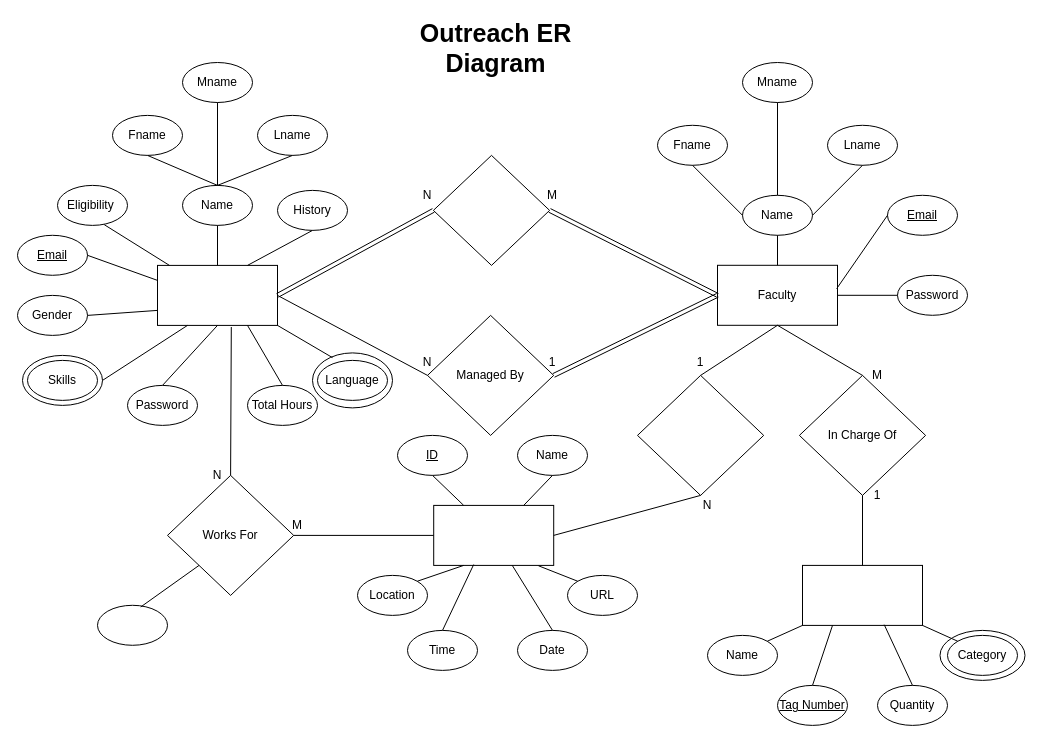
This 1043x743 diagram has some shape labels left out. Here are the shapes that lost their labels. From the top down, the centre of each, then its label:
[491,209]: Reports to
[217,294]: Volunteer
[700,434]: Controls
[493,534]: Event
[862,594]: Inventory
[132,624]: Hours
